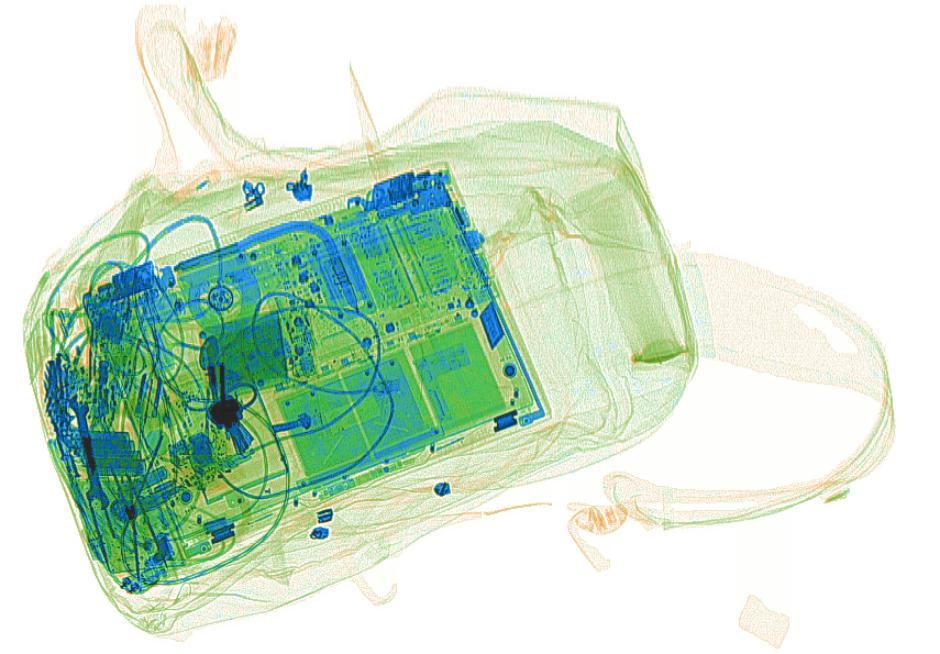battery: (52, 426, 152, 483)
